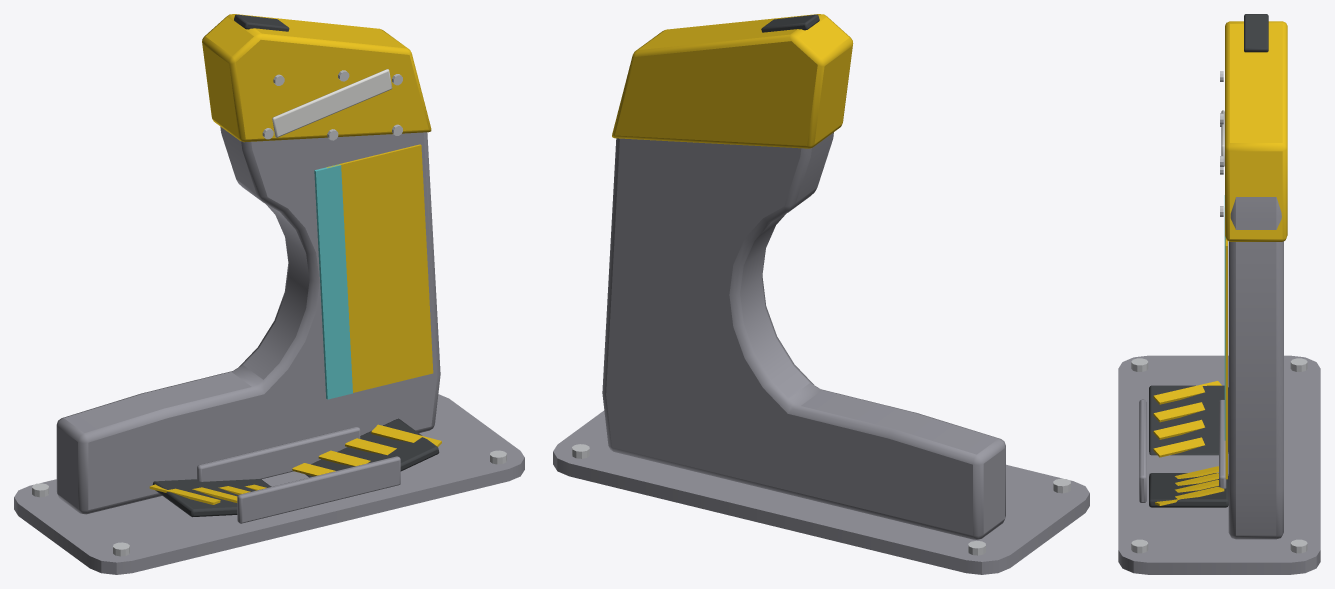
Rendered from sterling-dock-blockout.glb.
3 views of the same model, side by side, from view 1: azimuth 30°, elevation 25°; view 2: azimuth 150°, elevation 25°; view 3: azimuth 270°, elevation 25° (orthographic). The views are drawn at different scales.
Visible parts, largest first — view 1: SD_UprightHousing, SD_Baseplate, SD_TopLockPlate, SD_BrandingSurface, SD_BrandingBand, SD_WheelGuide_Left, SD_WheelGuide_Right, SD_ReflectiveStrip, SD_WheelTread_Rear, SD_WheelTread_Front; view 2: SD_UprightHousing, SD_TopLockPlate, SD_Baseplate, SD_LockSlot; view 3: SD_Baseplate, SD_UprightHousing, SD_TopLockPlate, SD_WheelTread_Rear, SD_WheelTread_Front, SD_LockSlot, SD_WheelGuide_Left, SD_BrandingSurface, SD_WheelTreadStripe_Rear_0, SD_WheelGuide_Right, SD_WheelTreadStripe_Rear_1, SD_WheelTreadStripe_Rear_2 (+3 smaller).
Boxes of the visible parts, bbox=[...] form: SD_UprightHousing: bbox=[56, 126, 440, 514]; SD_Baseplate: bbox=[14, 394, 524, 574]; SD_TopLockPlate: bbox=[202, 14, 431, 142]; SD_BrandingSurface: bbox=[326, 144, 433, 392]; SD_BrandingBand: bbox=[314, 164, 352, 399]; SD_WheelGuide_Left: bbox=[237, 456, 400, 523]; SD_WheelGuide_Right: bbox=[197, 427, 360, 481]; SD_ReflectiveStrip: bbox=[272, 69, 392, 137]; SD_WheelTread_Rear: bbox=[152, 479, 271, 517]; SD_WheelTread_Front: bbox=[305, 418, 439, 477]; SD_UprightHousing: bbox=[602, 132, 1005, 539]; SD_TopLockPlate: bbox=[612, 14, 853, 148]; SD_Baseplate: bbox=[553, 410, 1089, 574]; SD_LockSlot: bbox=[761, 14, 819, 32]; SD_Baseplate: bbox=[1118, 355, 1320, 574]; SD_UprightHousing: bbox=[1228, 197, 1283, 539]; SD_TopLockPlate: bbox=[1225, 21, 1287, 241]; SD_WheelTread_Rear: bbox=[1149, 385, 1228, 455]; SD_WheelTread_Front: bbox=[1149, 473, 1228, 507]; SD_LockSlot: bbox=[1244, 14, 1268, 52]; SD_WheelGuide_Left: bbox=[1139, 399, 1146, 502]; SD_BrandingSurface: bbox=[1225, 238, 1227, 479]; SD_WheelTreadStripe_Rear_0: bbox=[1153, 381, 1221, 404]; SD_WheelGuide_Right: bbox=[1219, 399, 1226, 488]; SD_WheelTreadStripe_Rear_1: bbox=[1153, 402, 1204, 422]; SD_WheelTreadStripe_Rear_2: bbox=[1153, 419, 1204, 439].
Size of the model in its own units: 0.8 by 0.8155 by 0.33.
